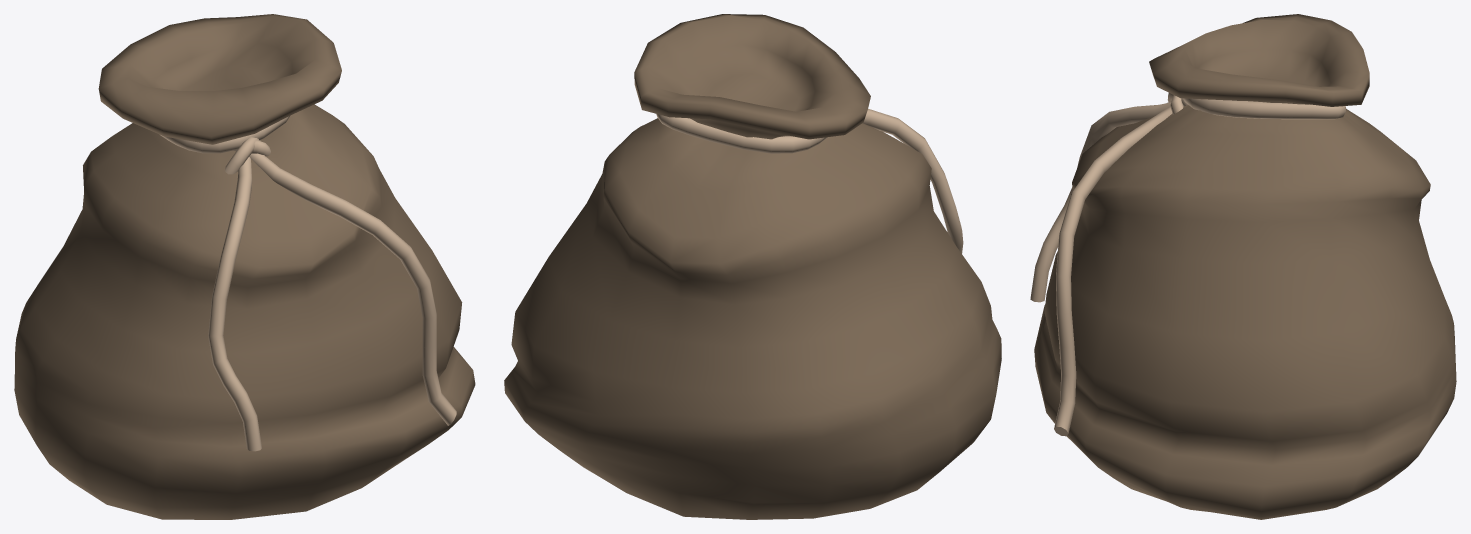
Rendered from Saco.fbx.
The picture shows the model from 3 angles, left to right: view 1: azimuth 30°, elevation 25°; view 2: azimuth 150°, elevation 25°; view 3: azimuth 270°, elevation 25°; orthographic projection.
Visible parts, largest first — view 1: Cube.006, BézierCurve.001, BézierCircle, BézierCurve.002; view 2: Cube.006, BézierCurve.001, BézierCircle; view 3: Cube.006, BézierCurve.001, BézierCircle.
Part boxes in pixels (x1=…): Cube.006: x1=14, y1=14, x2=475, y2=519; BézierCurve.001: x1=208, y1=153, x2=456, y2=451; BézierCircle: x1=160, y1=115, x2=290, y2=153; BézierCurve.002: x1=225, y1=137, x2=270, y2=174; Cube.006: x1=504, y1=14, x2=1001, y2=519; BézierCurve.001: x1=863, y1=109, x2=963, y2=253; BézierCircle: x1=656, y1=114, x2=826, y2=153; Cube.006: x1=1034, y1=14, x2=1456, y2=519; BézierCurve.001: x1=1030, y1=102, x2=1172, y2=436; BézierCircle: x1=1183, y1=98, x2=1346, y2=119.
Size of the model in its own units: 97.59 by 88.64 by 86.3.
